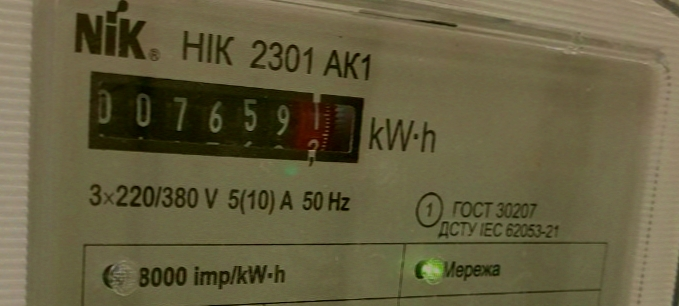0: (131, 85, 155, 126), (92, 82, 115, 123)
1: (308, 98, 325, 131)
5: (240, 92, 260, 131)
6: (205, 93, 226, 132)
7: (170, 90, 189, 130)
9: (274, 99, 291, 136)
screen: (79, 59, 372, 179)
